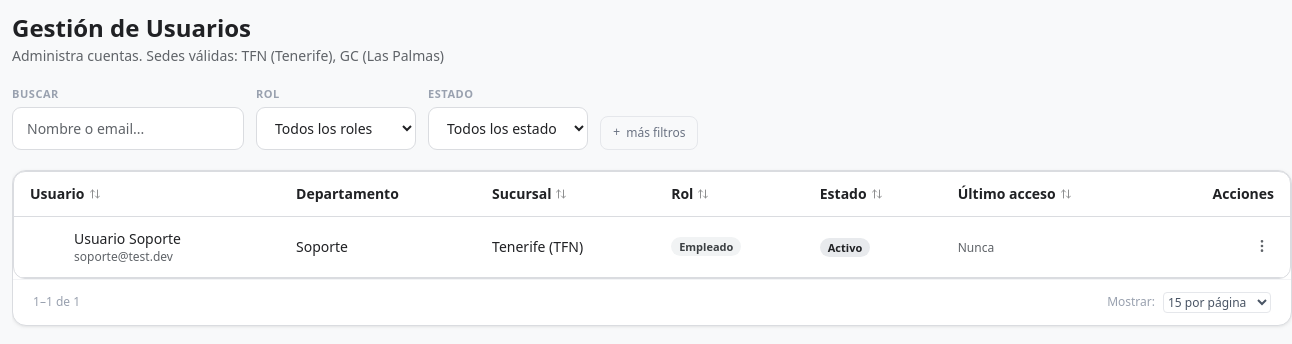
UsersPage › muestra usuarios de toda la branch para DM pero oculta editar fuera de su departamento
Click the 7th button at {"x": 1262, "y": 246}, box [1250,234,1274,258]
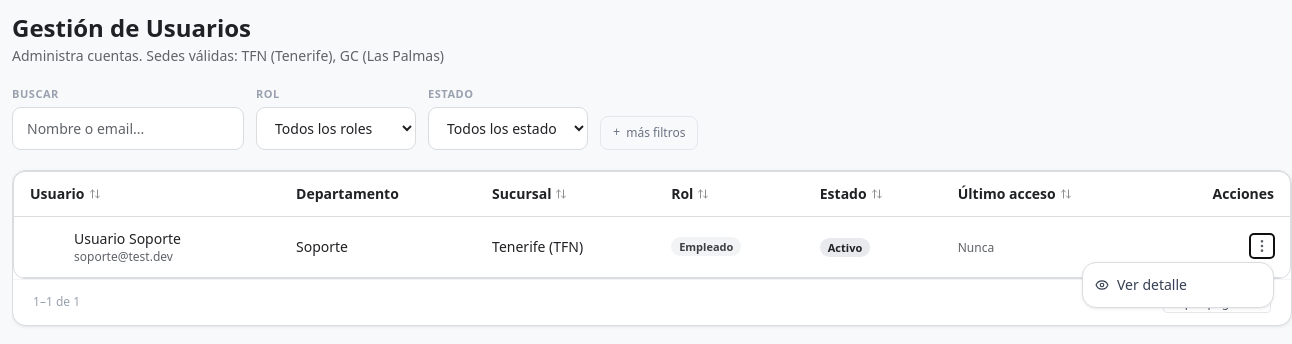
Now the button "Ver detalle" is shown, box [1083,267,1273,303]
